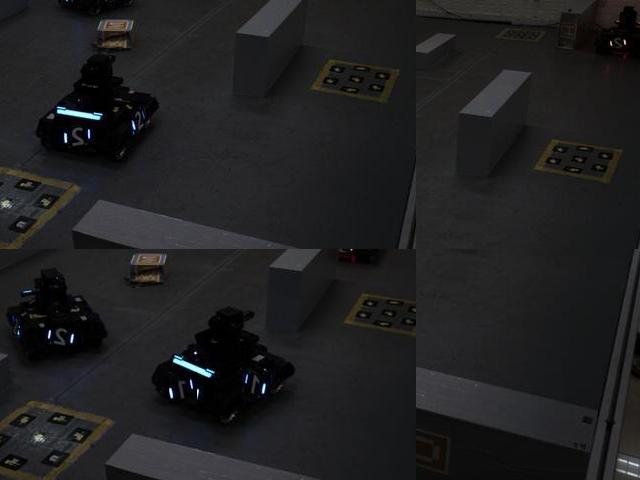armor: (57, 126, 97, 153), (45, 325, 82, 354), (243, 369, 273, 401), (170, 373, 199, 406), (126, 107, 150, 139), (608, 35, 630, 52), (326, 249, 359, 258), (97, 0, 126, 7), (62, 0, 82, 10)
